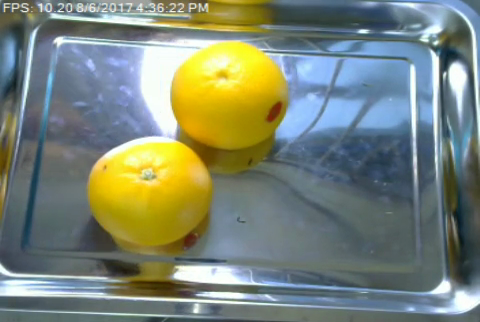Orange: (84, 134, 211, 244), (169, 42, 292, 150)
